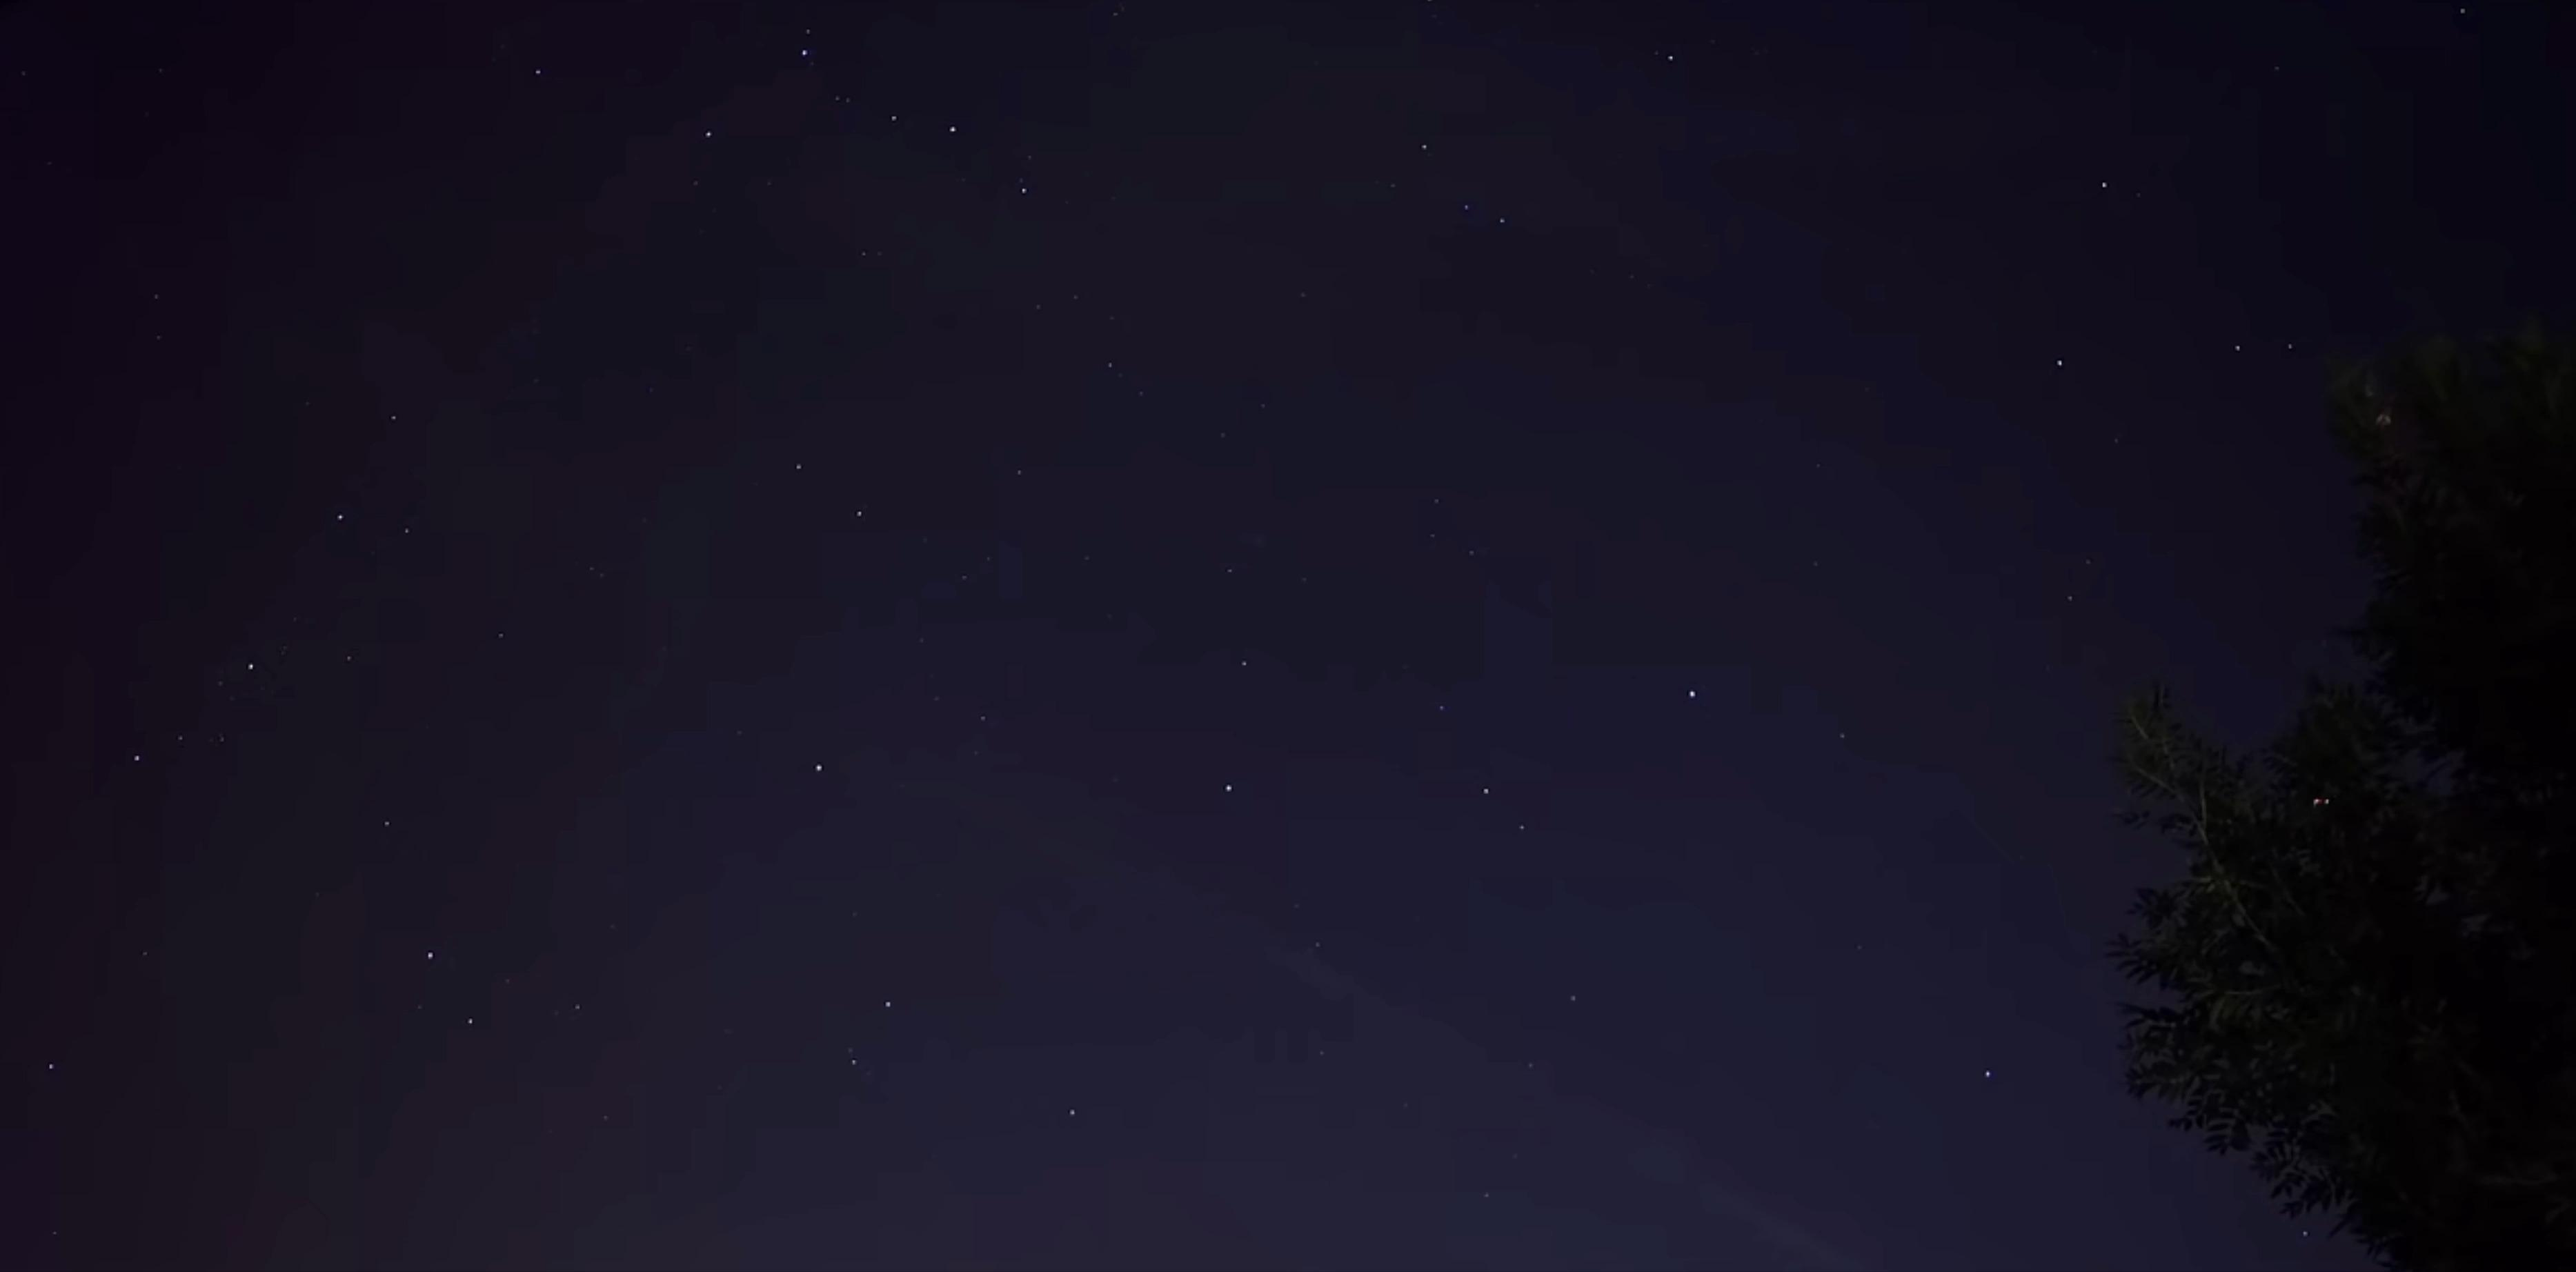Plane: (2300, 790, 2338, 810)
